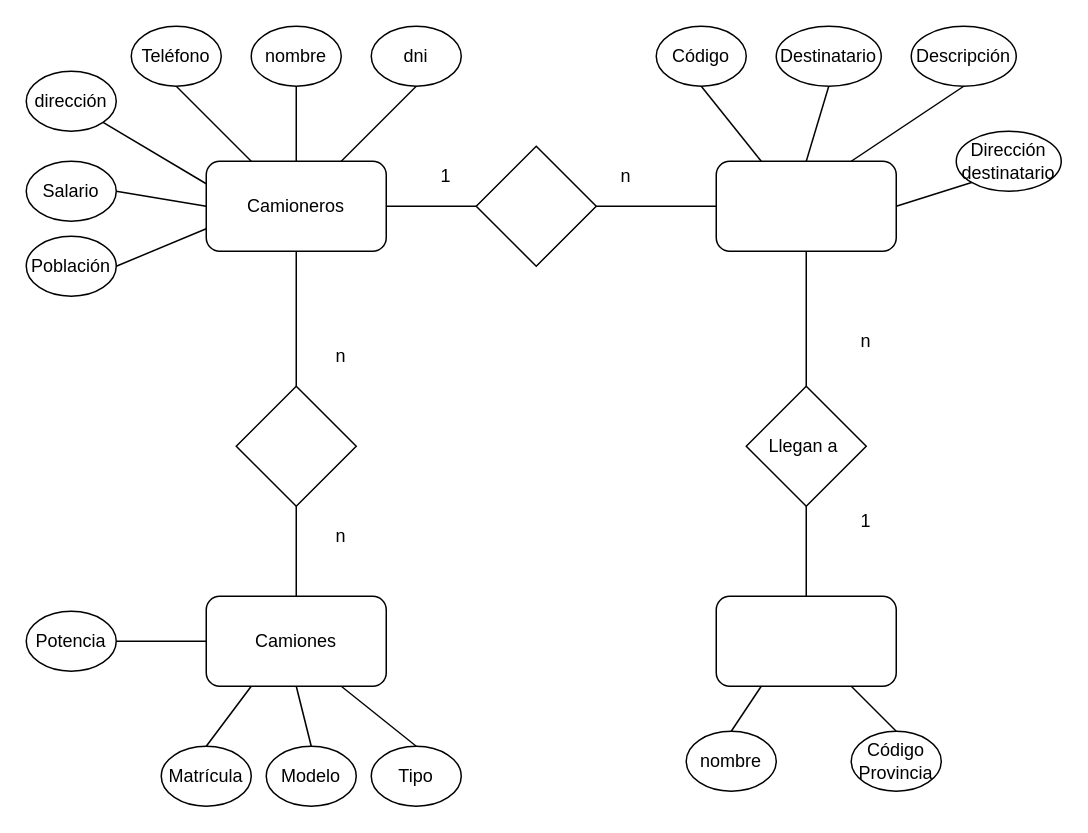
Image size: 1088x833. Some labels were removed from this diagram. Here are the shapes that lost their labels. From the top down, the centre of each, then its label:
(535,205): Transportan
(805,205): Paquetes
(295,445): Conducen
(805,640): Provincias
